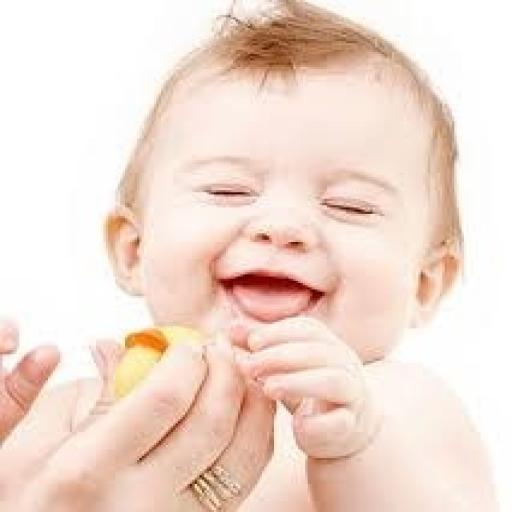laughing: (0, 0, 507, 510)
